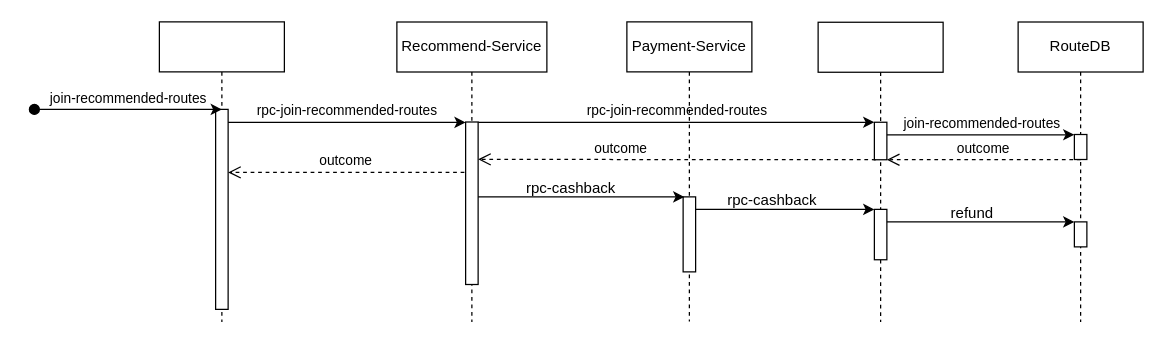
Image size: 1165x344. Some labels were removed from this diagram. Each missing label, with the box of its shape:
DB-Service: (817, 21, 943, 322)
Gateway-API: (158, 21, 284, 322)
